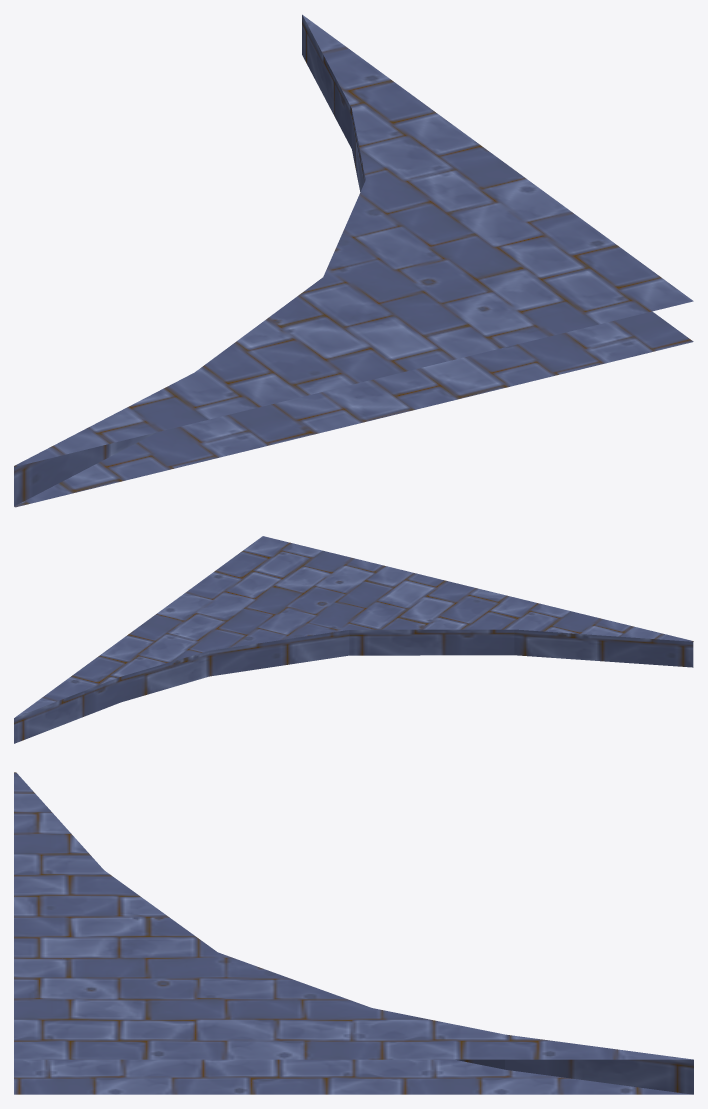
File: AngularWall1x1LP.fbx
The picture shows the model from 3 angles, top to bottom: view 1: azimuth 30°, elevation 25°; view 2: azimuth 150°, elevation 25°; view 3: azimuth 270°, elevation 25°; orthographic projection. The views are drawn at different scales.
Visible parts, largest first — view 1: angular1x1; view 2: angular1x1; view 3: angular1x1.
Part boxes in pixels (<box>): angular1x1: <box>14,14,693,507</box>; angular1x1: <box>14,536,693,743</box>; angular1x1: <box>14,772,693,1094</box>.
Bounding box in the file's own units: 350 × 20 × 350.
